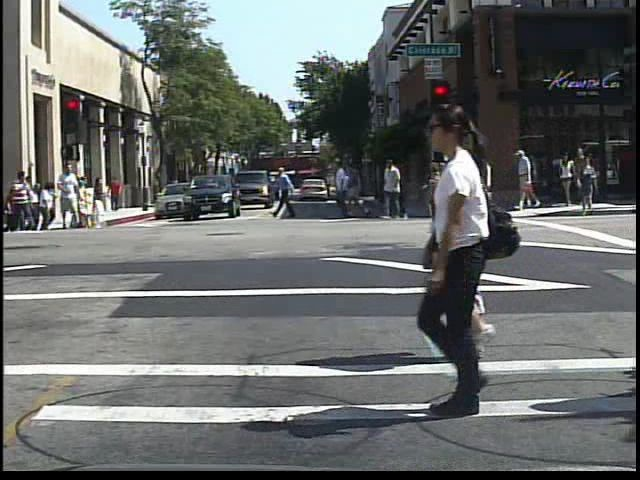person: (391, 107, 535, 418), (416, 116, 509, 359), (55, 162, 85, 231), (515, 142, 541, 210), (9, 164, 34, 234), (106, 175, 126, 214), (167, 172, 185, 205)
